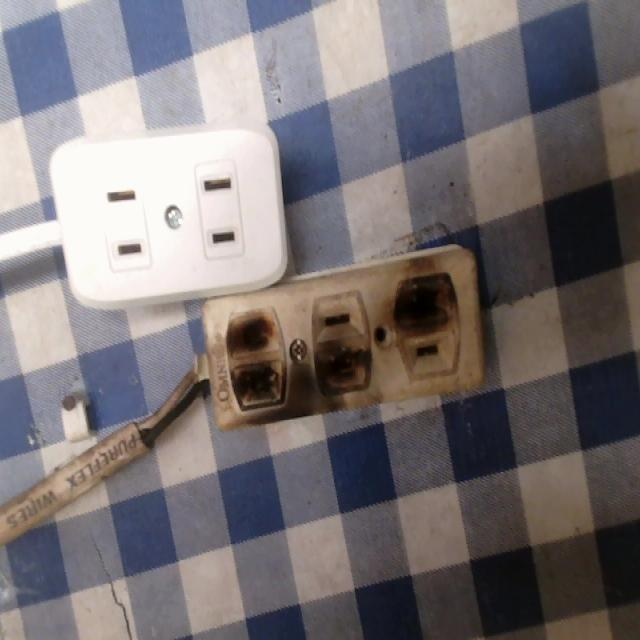-: (225, 304, 292, 428), (310, 341, 385, 416), (392, 273, 466, 340)
